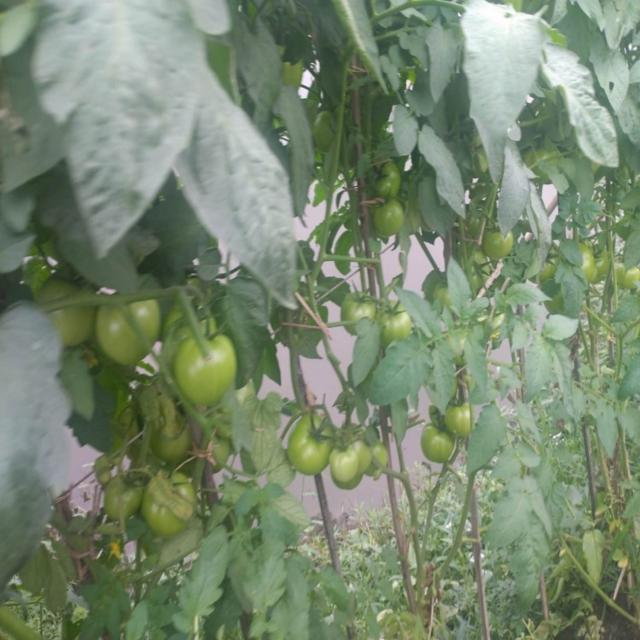tomato: (286, 407, 334, 474), (99, 303, 145, 365), (175, 336, 214, 402), (207, 330, 241, 401), (46, 299, 96, 344), (96, 475, 143, 516), (424, 421, 459, 467), (143, 498, 185, 534), (482, 222, 519, 262), (146, 427, 193, 458), (376, 199, 411, 238), (371, 162, 405, 201), (378, 303, 415, 338), (336, 289, 376, 321), (439, 400, 474, 435), (163, 472, 200, 504), (469, 250, 499, 289), (133, 303, 167, 333), (34, 277, 78, 299), (333, 448, 357, 486), (540, 243, 562, 280), (577, 248, 597, 287), (314, 111, 333, 151), (348, 442, 372, 472), (592, 245, 609, 281), (432, 283, 450, 313), (371, 444, 394, 467), (621, 266, 640, 291), (615, 260, 623, 289)
